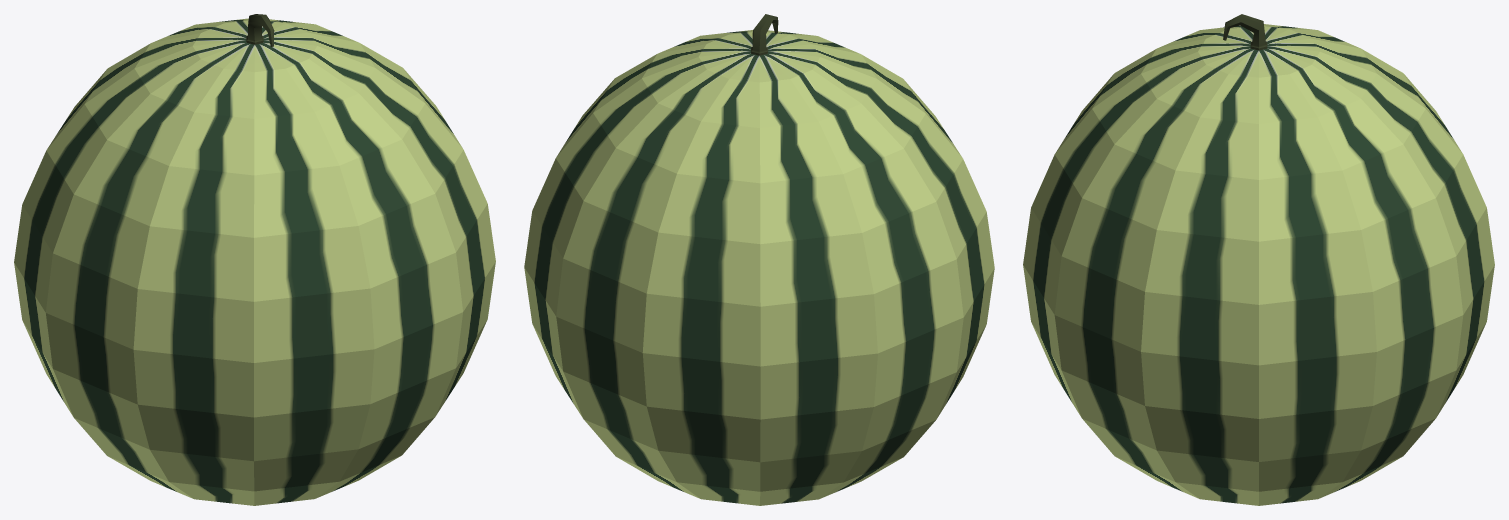
Rendered from SM_Watermelon_01.fbx.
3 renders of one model, left to right at view 1: azimuth 30°, elevation 25°; view 2: azimuth 150°, elevation 25°; view 3: azimuth 270°, elevation 25°, orthographic. The views are drawn at different scales.
Parts seen in each view (by area): view 1: SM_Watermelon_01; view 2: SM_Watermelon_01; view 3: SM_Watermelon_01.
Boxes of the visible parts, box(x1,y1,x2,y2) form: SM_Watermelon_01: box(14, 14, 495, 505); SM_Watermelon_01: box(524, 14, 994, 505); SM_Watermelon_01: box(1023, 14, 1494, 505).
Size of the model in its own units: 49 by 53.28 by 48.5.
